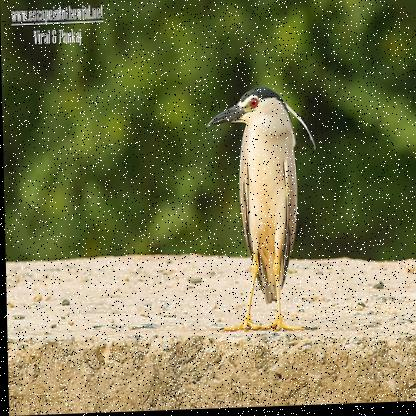Burung: (204, 89, 305, 334)
